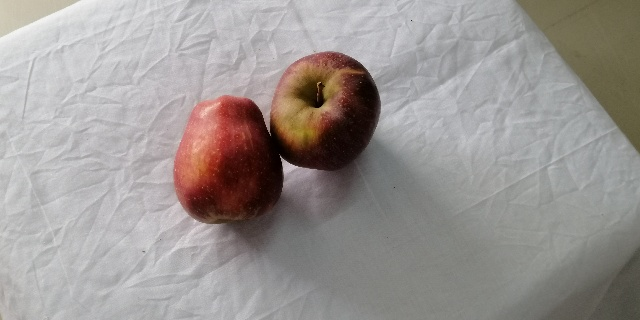apple_kashmir: (268, 51, 393, 175), (173, 95, 289, 226)
